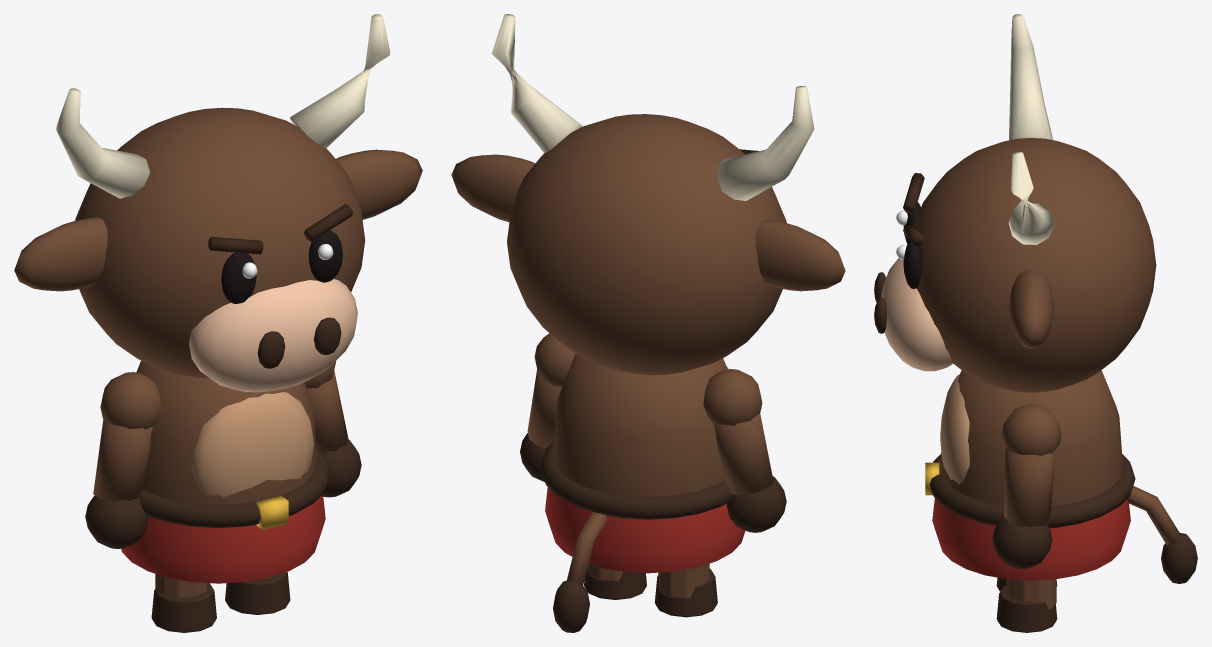
The model's file is minitaurinho_arremessador.glb.
3 renders of one model, left to right at view 1: azimuth 30°, elevation 25°; view 2: azimuth 150°, elevation 25°; view 3: azimuth 270°, elevation 25°, orthographic. The views are drawn at different scales.
Visible parts, largest first — view 1: CabecaMalha, Corpo, BracoDMalha, BracoEMalha, PernaDMalha, PernaEMalha; view 2: CabecaMalha, Corpo, BracoDMalha, BracoEMalha, CaudaMalha, PernaDMalha, PernaEMalha; view 3: CabecaMalha, Corpo, BracoEMalha, PernaEMalha, CaudaMalha.
Part boxes in pixels (box(x1,y1,x2,y2)): CabecaMalha: box(14, 14, 422, 392); Corpo: box(121, 361, 330, 583); BracoDMalha: box(85, 372, 161, 548); BracoEMalha: box(304, 361, 361, 497); PernaDMalha: box(151, 574, 216, 632); PernaEMalha: box(225, 572, 290, 614); CabecaMalha: box(451, 14, 845, 375); Corpo: box(540, 354, 745, 573); BracoDMalha: box(703, 369, 786, 532); BracoEMalha: box(520, 333, 575, 481); CaudaMalha: box(553, 512, 607, 632); PernaDMalha: box(654, 563, 717, 617); PernaEMalha: box(584, 564, 646, 599); CabecaMalha: box(874, 14, 1156, 392); Corpo: box(925, 370, 1135, 580); BracoEMalha: box(992, 404, 1061, 569); PernaEMalha: box(996, 579, 1057, 632); CaudaMalha: box(1127, 486, 1197, 583).
Bounding box in the file's own units: 0.946 × 1.24 × 0.701.
